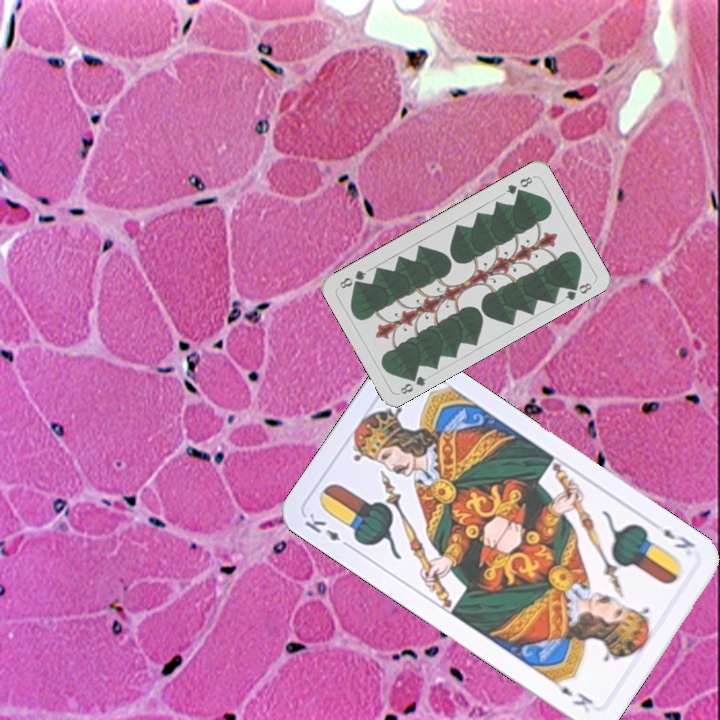EK: (300, 508, 355, 552), (659, 524, 698, 552)
G8: (396, 369, 429, 397), (502, 172, 535, 197)
